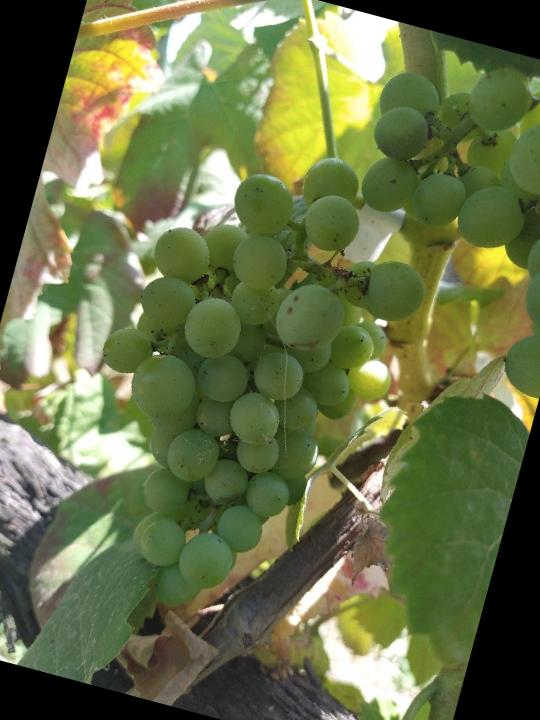grape: (42, 114, 452, 652)
